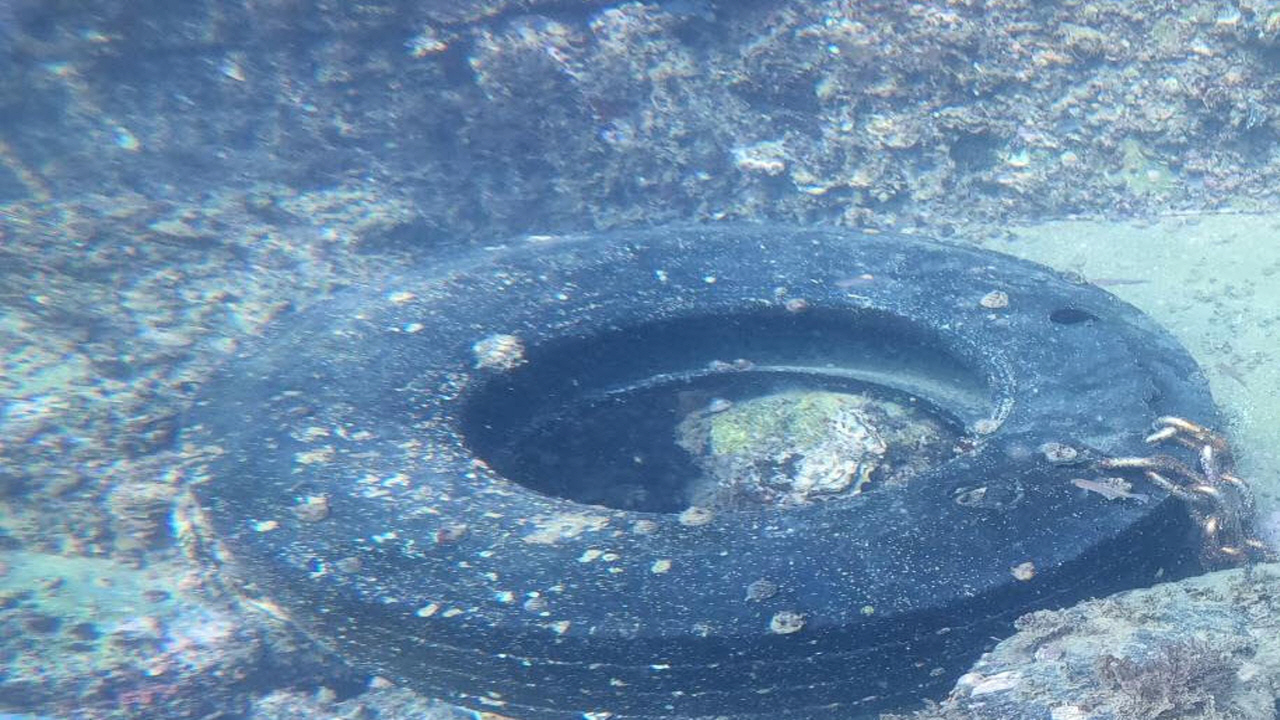tire: (173, 220, 1222, 720)
